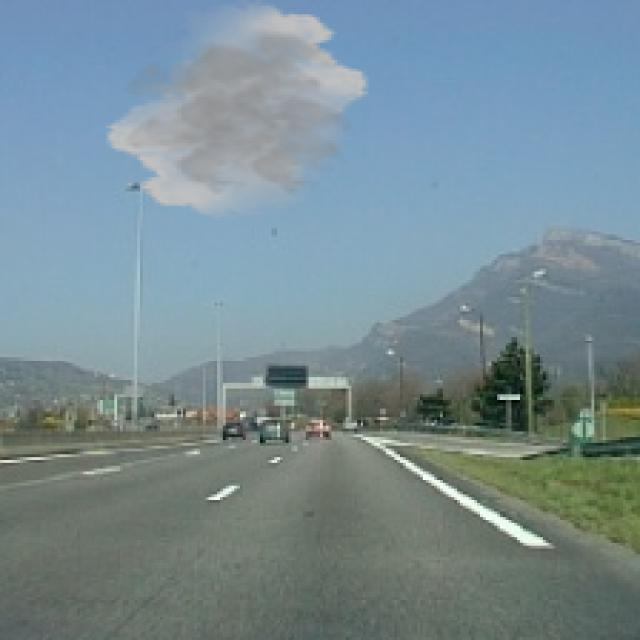Smoke: (102, 0, 372, 220)
